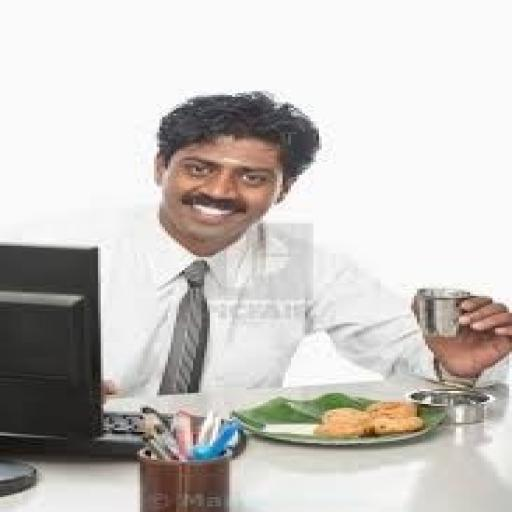eating: (92, 90, 510, 400)
